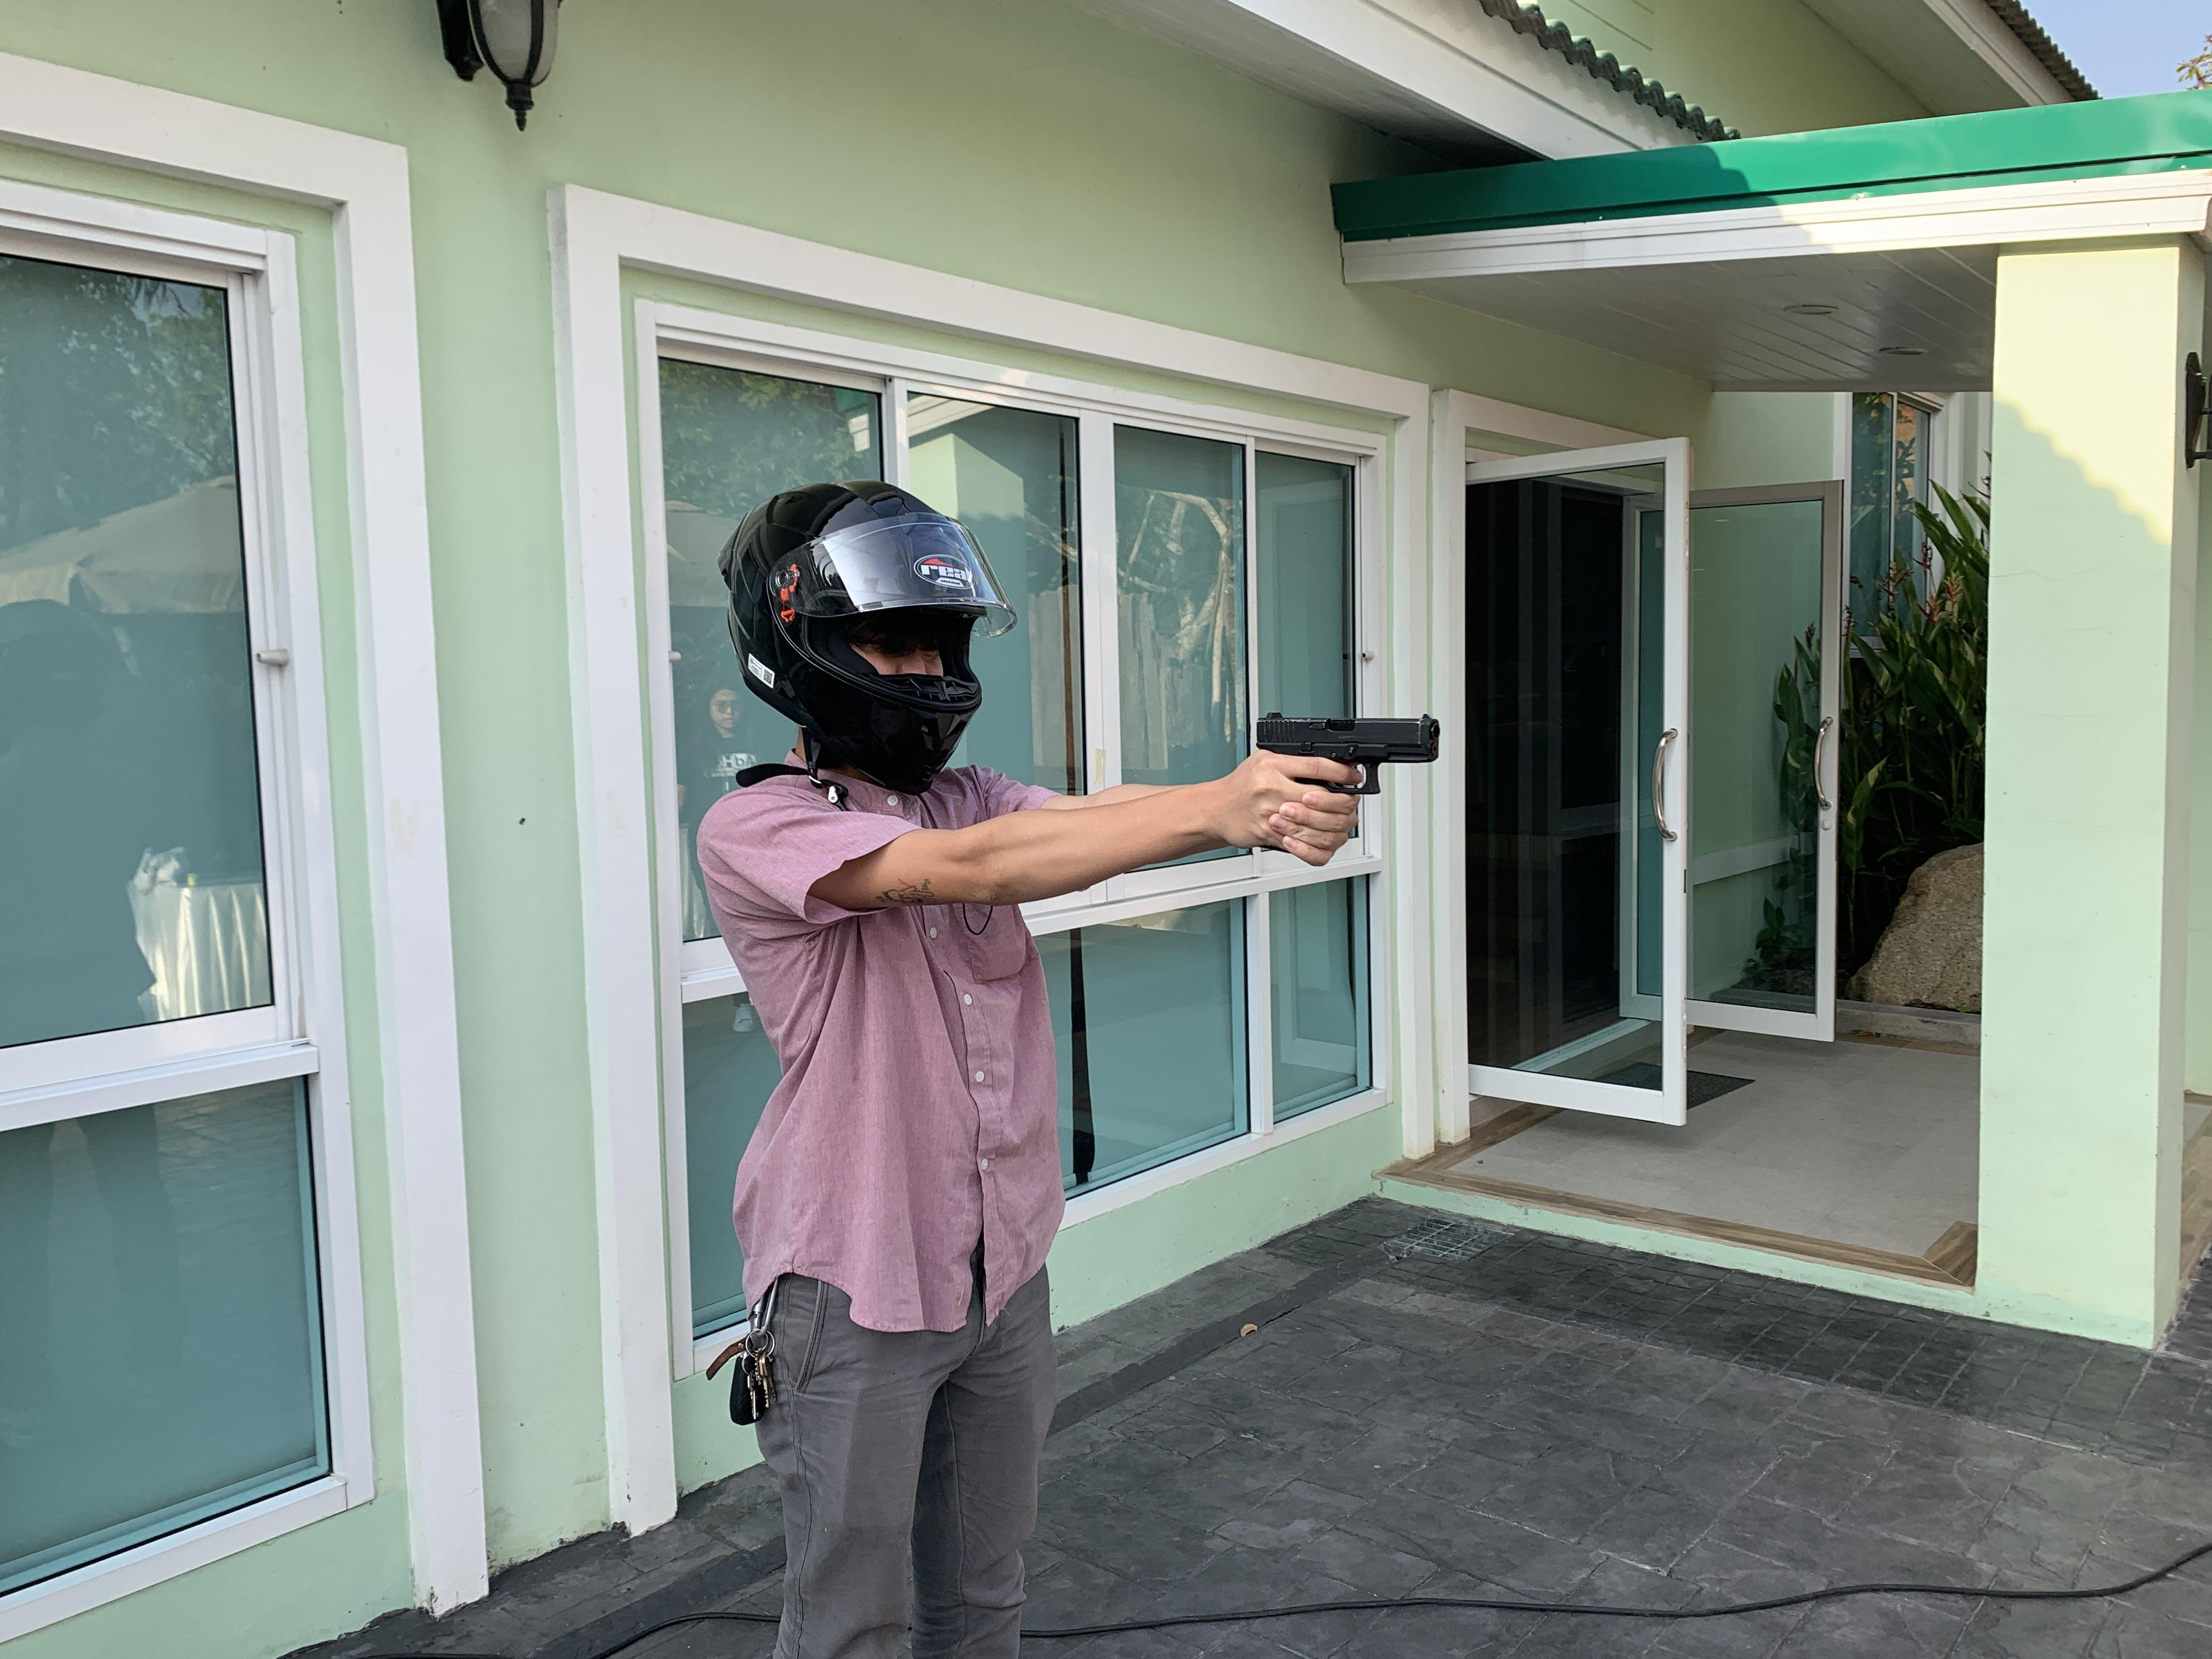criminal: (693, 474, 1454, 1659)
weapon: (1244, 706, 1453, 809)
